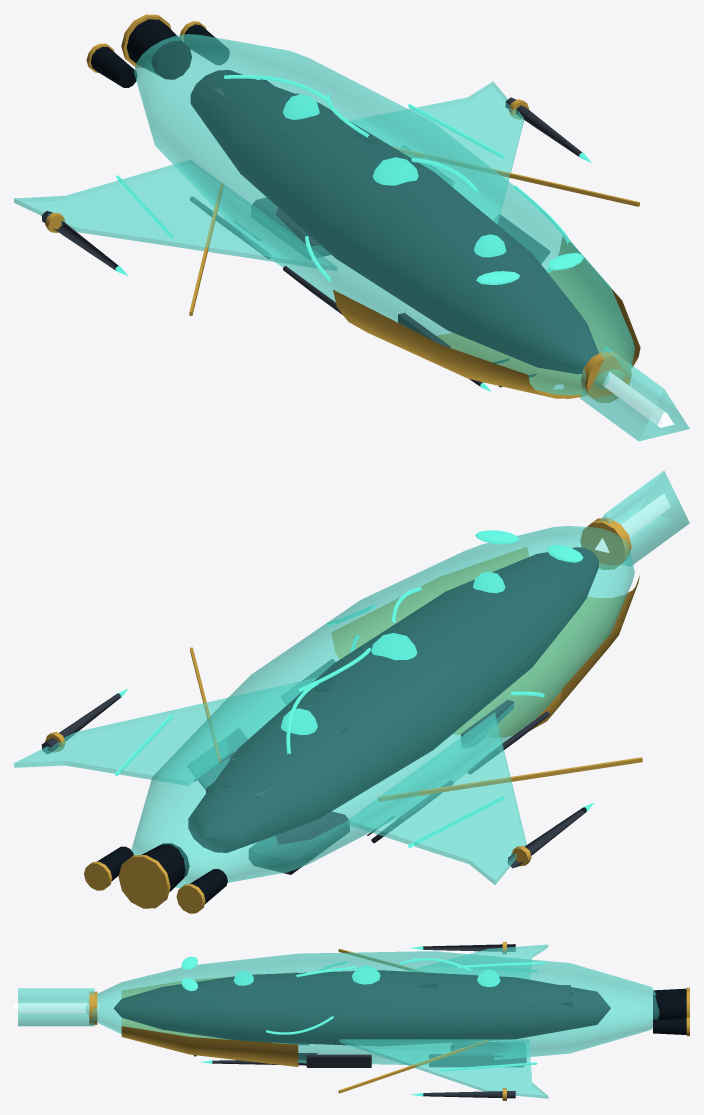
The model's file is refleks-swietlisci-coalition-33-lod0.glb.
The picture shows the model from 3 angles, top to bottom: view 1: azimuth 30°, elevation 25°; view 2: azimuth 150°, elevation 25°; view 3: azimuth 270°, elevation 25°; orthographic projection. The views are drawn at different scales.
Size of the model in its own units: 9.05 by 2.81 by 17.
